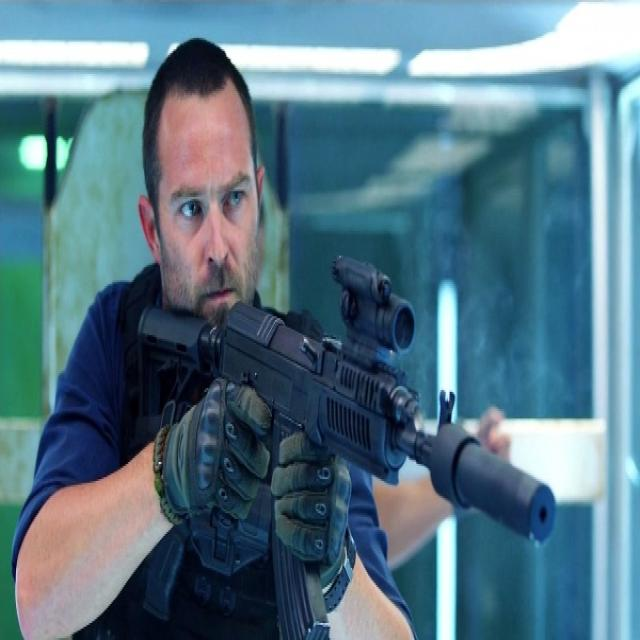rifle: (139, 253, 563, 640)
